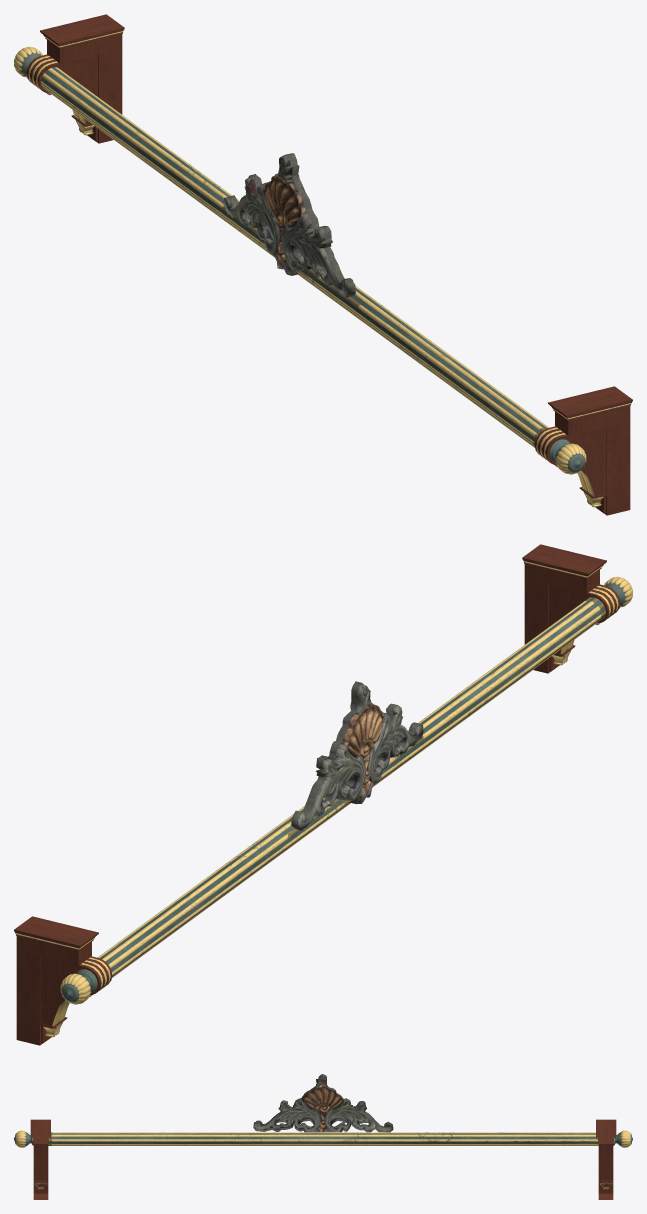
The model's file is SM_WindowFrame05F.fbx.
3 renders of one model, top to bottom at view 1: azimuth 30°, elevation 25°; view 2: azimuth 150°, elevation 25°; view 3: azimuth 270°, elevation 25°, orthographic. The views are drawn at different scales.
Visible parts, largest first — view 1: SM_WindowFrame05F; view 2: SM_WindowFrame05F; view 3: SM_WindowFrame05F.
Part boxes in pixels (x1=…): SM_WindowFrame05F: x1=14, y1=14, x2=632, y2=515; SM_WindowFrame05F: x1=14, y1=544, x2=632, y2=1045; SM_WindowFrame05F: x1=14, y1=1074, x2=632, y2=1199.
Size of the model in its own units: 24.78 by 261 by 48.
